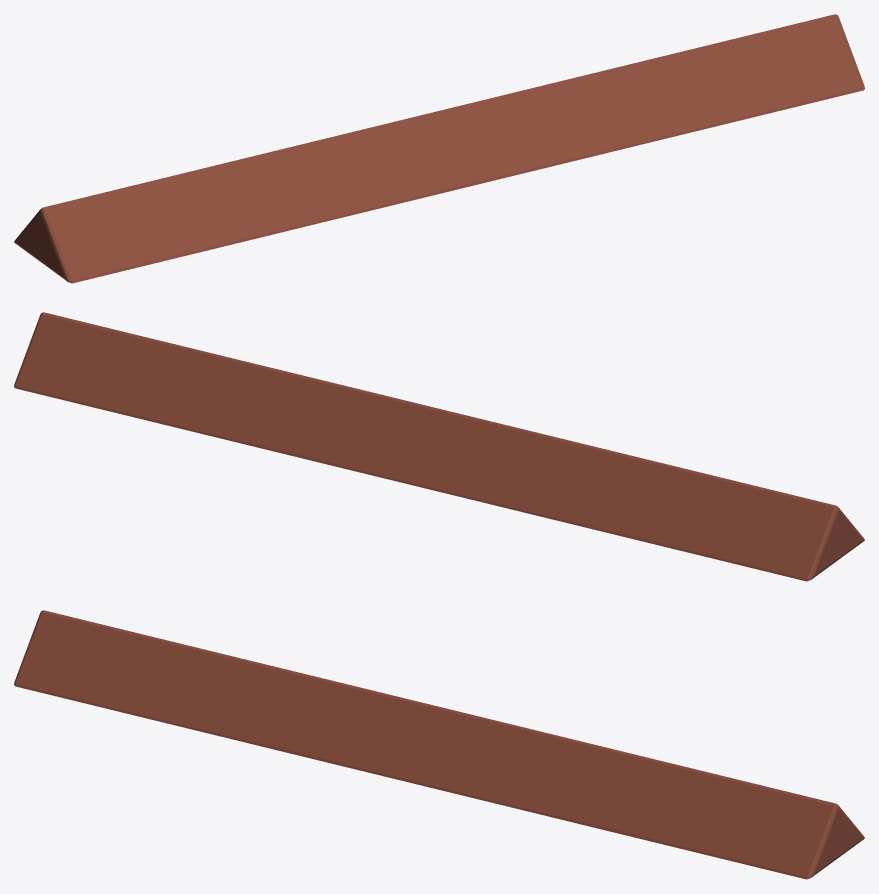
File: roof_ridge_4p4.glb
The picture shows the model from 3 angles, top to bottom: view 1: azimuth 30°, elevation 25°; view 2: azimuth 150°, elevation 25°; view 3: azimuth 330°, elevation 25°; orthographic projection.
Parts seen in each view (by area): view 1: roof_ridge; view 2: roof_ridge; view 3: roof_ridge.
Part boxes in pixels (box(x1,y1,x2,y2)): roof_ridge: box(14, 14, 864, 283); roof_ridge: box(14, 312, 864, 581); roof_ridge: box(14, 610, 864, 879).
Size of the model in its own units: 4.4 by 0.2923 by 0.5469.
